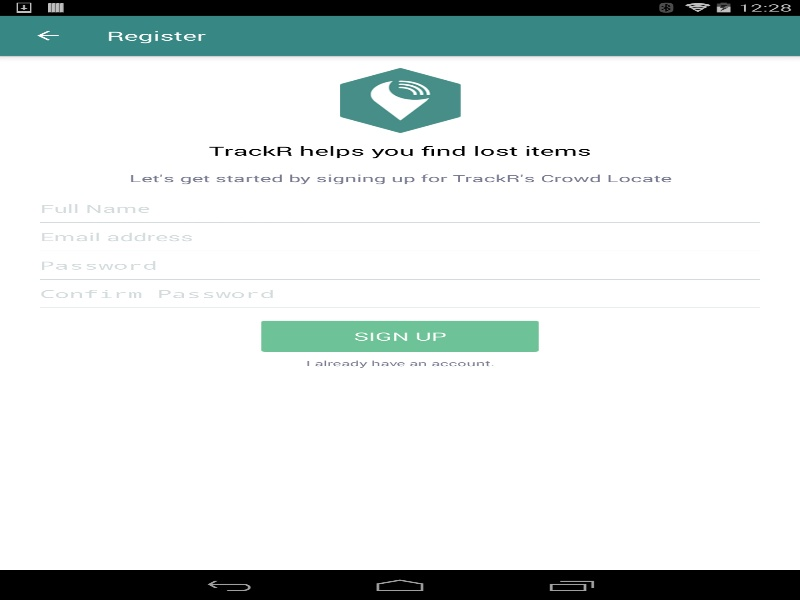Button: (261, 320, 538, 351), (10, 15, 85, 55)
Input: (26, 194, 773, 222), (26, 222, 773, 250), (26, 251, 773, 279), (26, 279, 773, 307)
